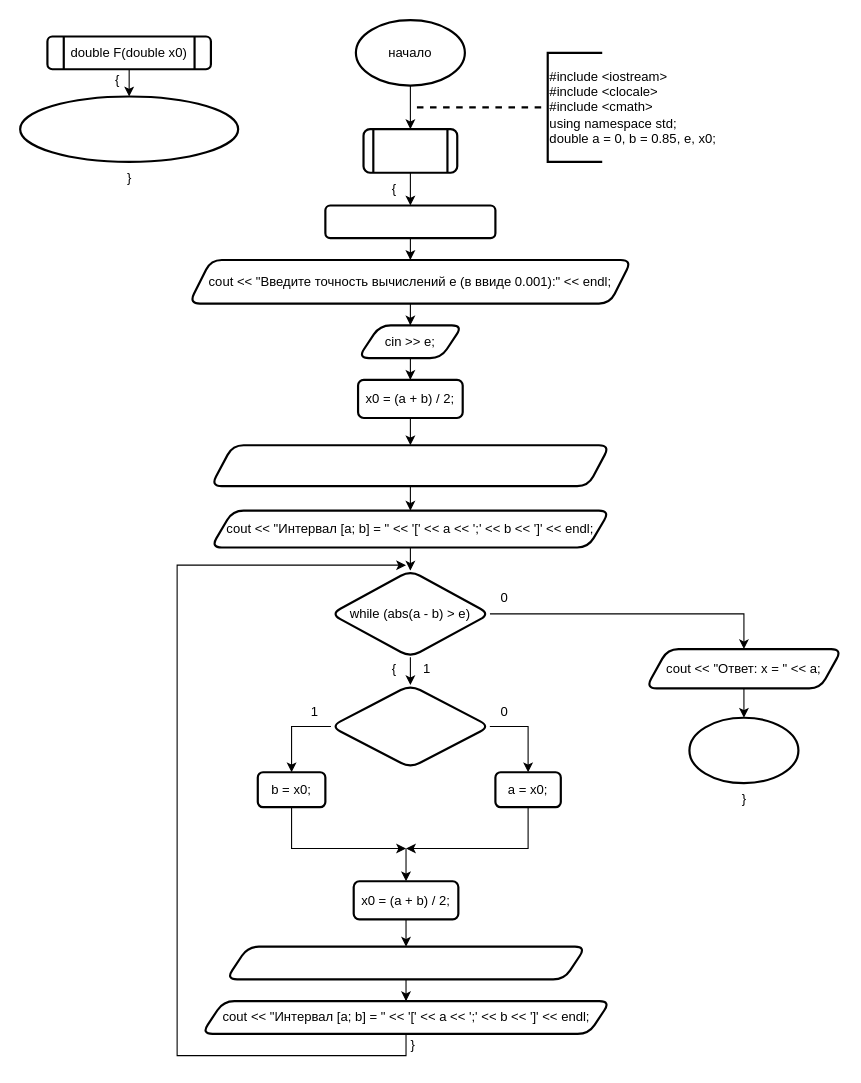
Image size: 861x1083. Some labels were removed from this diagram. Here are the shapes that lost their labels. From the top down, the centre of each, then its label:
the point at 129,128: return x0 - 1 / (3 + sin(3.6 * x0));
the point at 410,150: int main()
the point at 410,221: setlocale(LC_ALL, "Rus");
the point at 409,465: cout << "Первое приближение к корню: x0 = " << x0 << endl;
the point at 410,725: if (F(a) * F(x0) < 0)
the point at 743,750: return 0;
the point at 405,962: cout << "Приближение к корню: x0 = " << x0 << endl;
